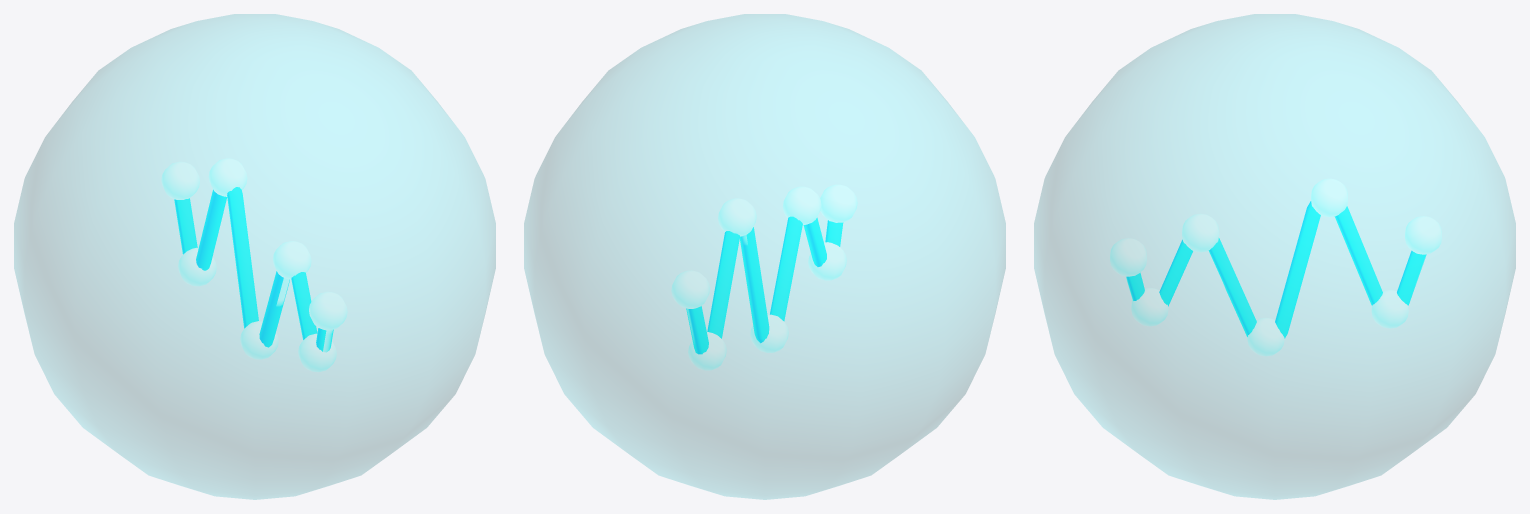
The model's file is orb.gltf.
3 views of the same model, side by side, from view 1: azimuth 30°, elevation 25°; view 2: azimuth 150°, elevation 25°; view 3: azimuth 270°, elevation 25° (orthographic).
Parts seen in each view (by area): view 1: pSphere122 brainwave_orb1, brainwave_orb1 brainwave1 pCylinder13, brainwave_orb1 brainwave1 pSphere130, brainwave_orb1 pSphere123 brainwave1, brainwave_orb1 brainwave1 pSphere128, brainwave_orb1 brainwave1 pSphere125, brainwave_orb1 brainwave1 pSphere129, brainwave_orb1 brainwave1 pSphere126, brainwave_orb1 brainwave1 pSphere127; view 2: pSphere122 brainwave_orb1, brainwave_orb1 brainwave1 pCylinder13, brainwave_orb1 pSphere123 brainwave1, brainwave_orb1 brainwave1 pSphere130, brainwave_orb1 brainwave1 pSphere125, brainwave_orb1 brainwave1 pSphere128, brainwave_orb1 brainwave1 pSphere126, brainwave_orb1 brainwave1 pSphere129, brainwave_orb1 brainwave1 pSphere127; view 3: pSphere122 brainwave_orb1, brainwave_orb1 brainwave1 pCylinder13, brainwave_orb1 pSphere123 brainwave1, brainwave_orb1 brainwave1 pSphere130, brainwave_orb1 brainwave1 pSphere128, brainwave_orb1 brainwave1 pSphere125, brainwave_orb1 brainwave1 pSphere127, brainwave_orb1 brainwave1 pSphere126, brainwave_orb1 brainwave1 pSphere129.
Boxes of the visible parts, x1,y1,x2,y2 form: pSphere122 brainwave_orb1: [14, 14, 495, 499]; brainwave_orb1 brainwave1 pCylinder13: [174, 187, 333, 352]; brainwave_orb1 brainwave1 pSphere130: [309, 291, 347, 330]; brainwave_orb1 pSphere123 brainwave1: [161, 161, 199, 199]; brainwave_orb1 brainwave1 pSphere128: [272, 241, 311, 279]; brainwave_orb1 brainwave1 pSphere125: [208, 158, 247, 196]; brainwave_orb1 brainwave1 pSphere129: [298, 333, 336, 372]; brainwave_orb1 brainwave1 pSphere126: [178, 247, 216, 286]; brainwave_orb1 brainwave1 pSphere127: [240, 321, 278, 359]; pSphere122 brainwave_orb1: [524, 14, 1005, 499]; brainwave_orb1 brainwave1 pCylinder13: [686, 216, 843, 354]; brainwave_orb1 pSphere123 brainwave1: [671, 270, 709, 308]; brainwave_orb1 brainwave1 pSphere130: [820, 184, 857, 222]; brainwave_orb1 brainwave1 pSphere125: [718, 198, 756, 236]; brainwave_orb1 brainwave1 pSphere128: [782, 186, 821, 224]; brainwave_orb1 brainwave1 pSphere126: [688, 332, 726, 370]; brainwave_orb1 brainwave1 pSphere129: [808, 242, 846, 280]; brainwave_orb1 brainwave1 pSphere127: [750, 314, 788, 352]; pSphere122 brainwave_orb1: [1034, 14, 1515, 499]; brainwave_orb1 brainwave1 pCylinder13: [1125, 201, 1426, 338]; brainwave_orb1 pSphere123 brainwave1: [1405, 216, 1441, 254]; brainwave_orb1 brainwave1 pSphere130: [1110, 238, 1146, 276]; brainwave_orb1 brainwave1 pSphere128: [1182, 213, 1219, 252]; brainwave_orb1 brainwave1 pSphere125: [1311, 178, 1347, 217]; brainwave_orb1 brainwave1 pSphere127: [1247, 317, 1284, 356]; brainwave_orb1 brainwave1 pSphere126: [1371, 290, 1408, 328]; brainwave_orb1 brainwave1 pSphere129: [1131, 288, 1168, 326].
Size of the model in its own units: 0.291 by 0.2958 by 0.2926.
